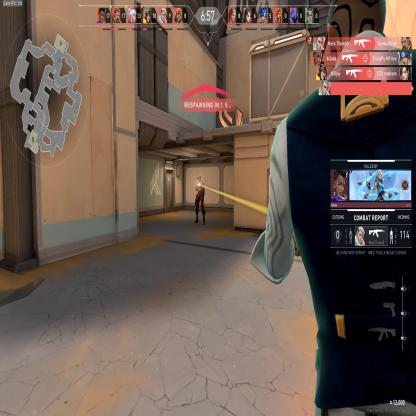enemy: (193, 173, 207, 225)
